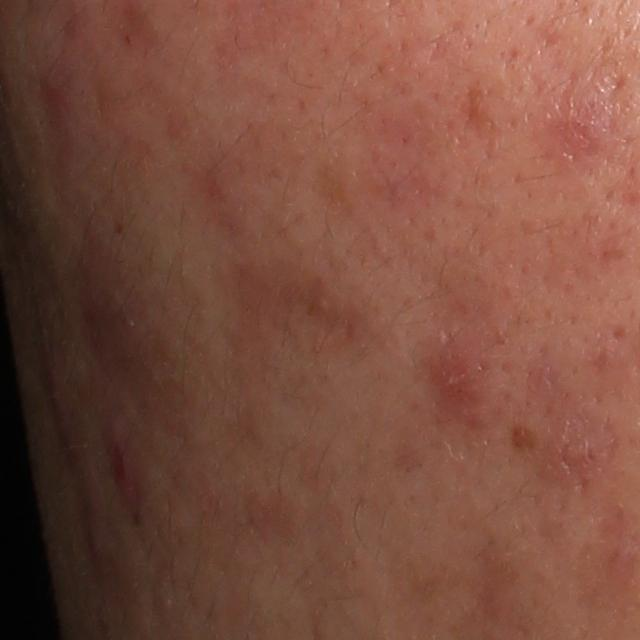atrophic_scar: (458, 76, 502, 155)
papule: (105, 419, 141, 509), (421, 354, 480, 406)
